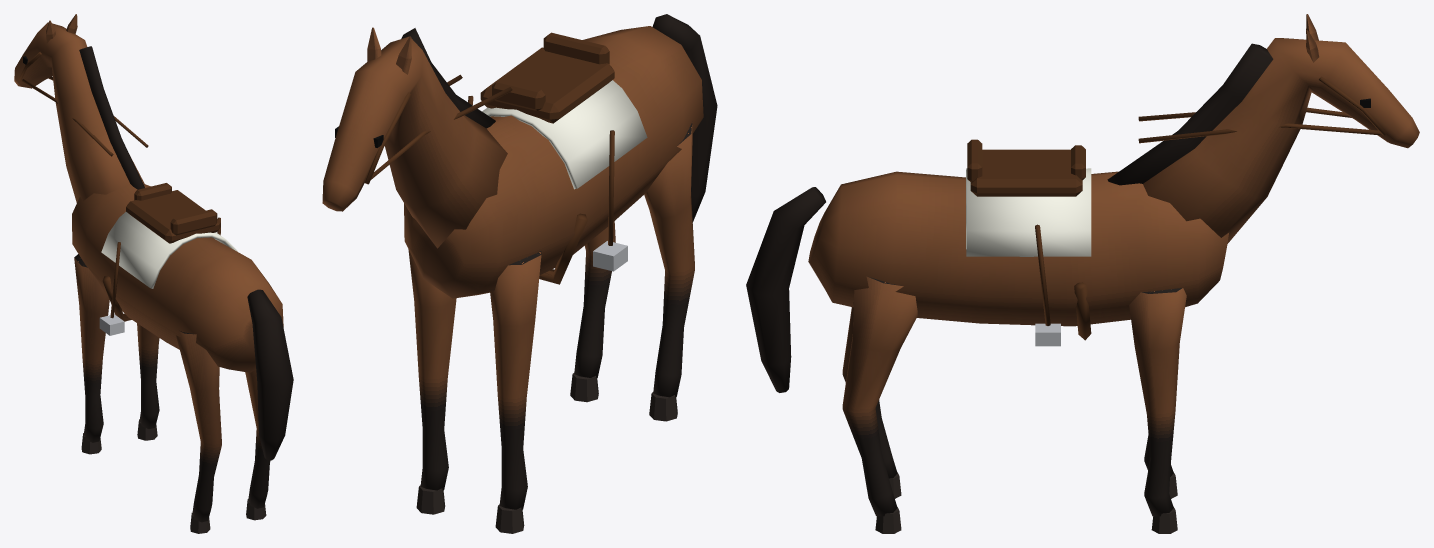
File: horse_bay.glb
3 renders of one model, left to right at view 1: azimuth 30°, elevation 25°; view 2: azimuth 150°, elevation 25°; view 3: azimuth 270°, elevation 25°, orthographic. The views are drawn at different scales.
Visible parts, largest first — view 1: Body, Tack, Hair, Leg_HL, Leg_FL, Leg_FR, Leg_HR; view 2: Body, Tack, Leg_FL, Leg_HL, Leg_FR, Hair, Leg_HR; view 3: Body, Tack, Hair, Leg_HR, Leg_FR, Leg_HL.
Part boxes in pixels (box(x1,y1,x2,y2)): Body: box(14, 14, 283, 372); Tack: box(18, 52, 237, 335); Hair: box(79, 46, 293, 460); Leg_HL: box(176, 331, 221, 533); Leg_FL: box(74, 254, 109, 454); Leg_FR: box(137, 323, 159, 440); Leg_HR: box(245, 369, 270, 520); Body: box(322, 26, 703, 298); Tack: box(364, 32, 647, 284); Leg_FL: box(490, 251, 541, 533); Leg_HL: box(644, 122, 694, 421); Leg_FR: box(408, 249, 456, 514); Hair: box(401, 14, 717, 222); Leg_HR: box(570, 221, 615, 402); Body: box(808, 14, 1419, 326); Tack: box(966, 76, 1386, 346); Hair: box(746, 43, 1273, 392); Leg_HR: box(842, 276, 917, 533); Leg_FR: box(1129, 288, 1186, 533); Leg_HL: box(842, 307, 901, 498).
Size of the model in its own units: 0.82 by 2.5 by 3.12.
Materials: 8 (2 with a texture image).
